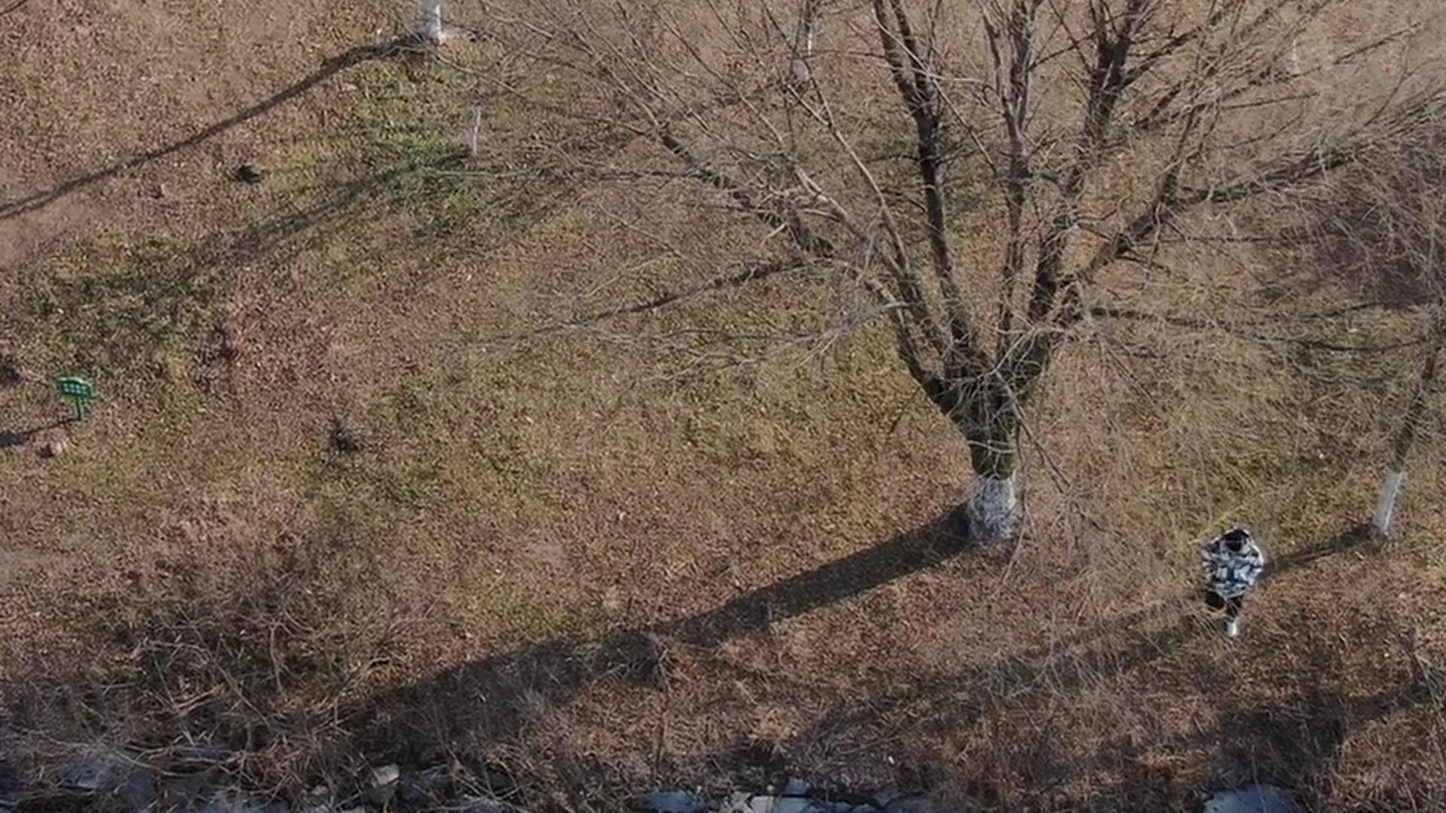human: (1184, 554, 1243, 671)
